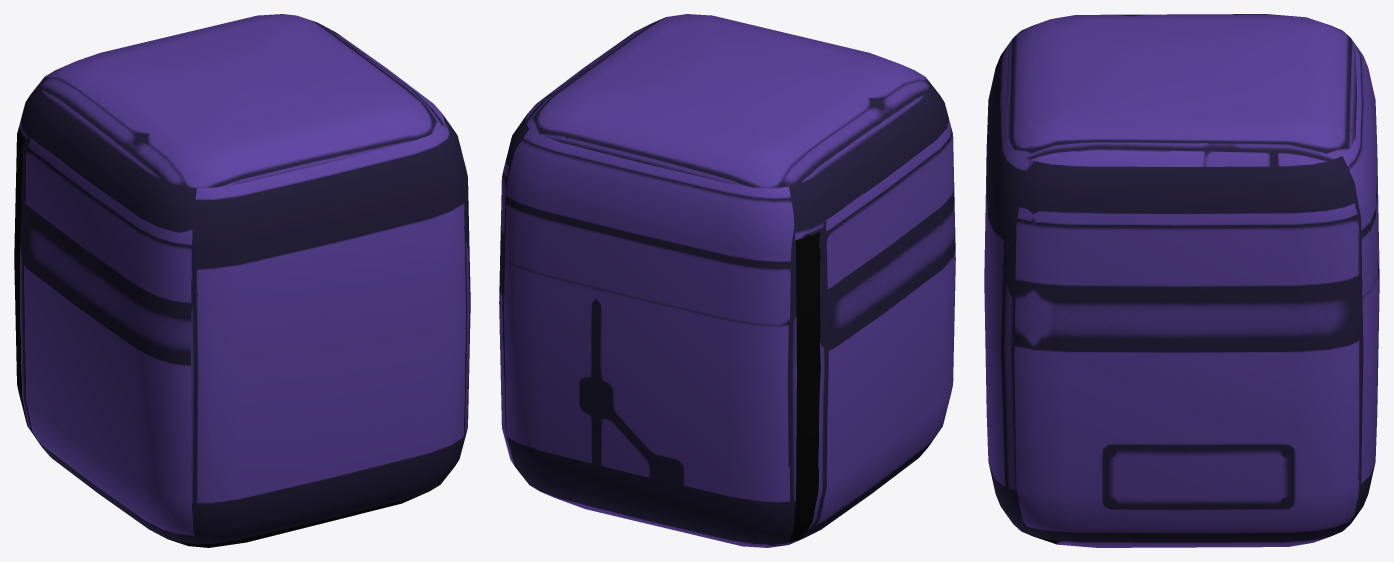
Rendered from Estela_BrazoIzq.fbx.
3 views of the same model, side by side, from view 1: azimuth 30°, elevation 25°; view 2: azimuth 150°, elevation 25°; view 3: azimuth 270°, elevation 25° (orthographic). The views are drawn at different scales.
Visible parts, largest first — view 1: Estela_BrazoIzq; view 2: Estela_BrazoIzq; view 3: Estela_BrazoIzq.
Part boxes in pixels (x1,y1,x2,y2): Estela_BrazoIzq: [14, 14, 470, 547]; Estela_BrazoIzq: [499, 14, 955, 547]; Estela_BrazoIzq: [984, 14, 1379, 547].
Bounding box in the file's own units: 1.07 × 1.27 × 1.07.
